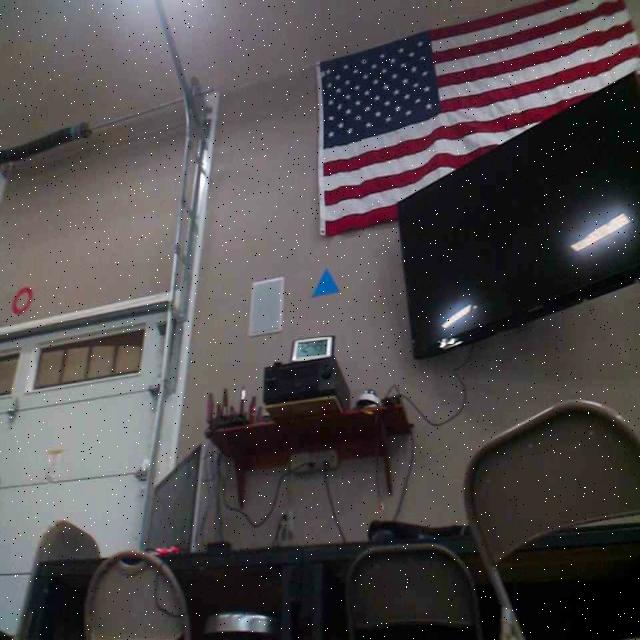ring_red: (10, 285, 34, 315)
triangle_blue: (312, 267, 341, 296)
